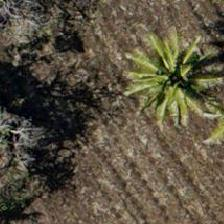Kelapa_Sawit: (123, 35, 213, 125)
